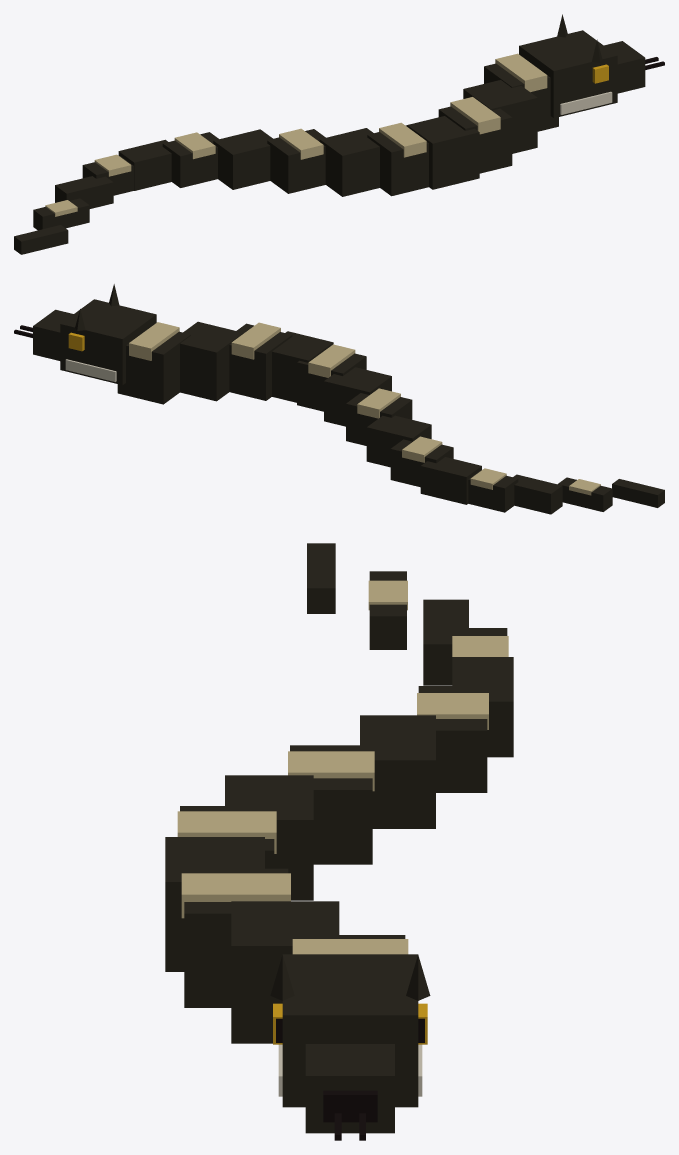
File: snake.glb
The picture shows the model from 3 angles, top to bottom: view 1: azimuth 30°, elevation 25°; view 2: azimuth 150°, elevation 25°; view 3: azimuth 270°, elevation 25°; orthographic projection. The views are drawn at different scales.
Visible parts, largest first — view 1: geometry_0; view 2: geometry_0; view 3: geometry_0.
Boxes of the visible parts, bbox=[...] form: geometry_0: bbox=[14, 14, 664, 254]; geometry_0: bbox=[14, 284, 664, 514]; geometry_0: bbox=[165, 543, 513, 1140].
Size of the model in its own units: 1.73 by 0.2065 by 0.4111.
